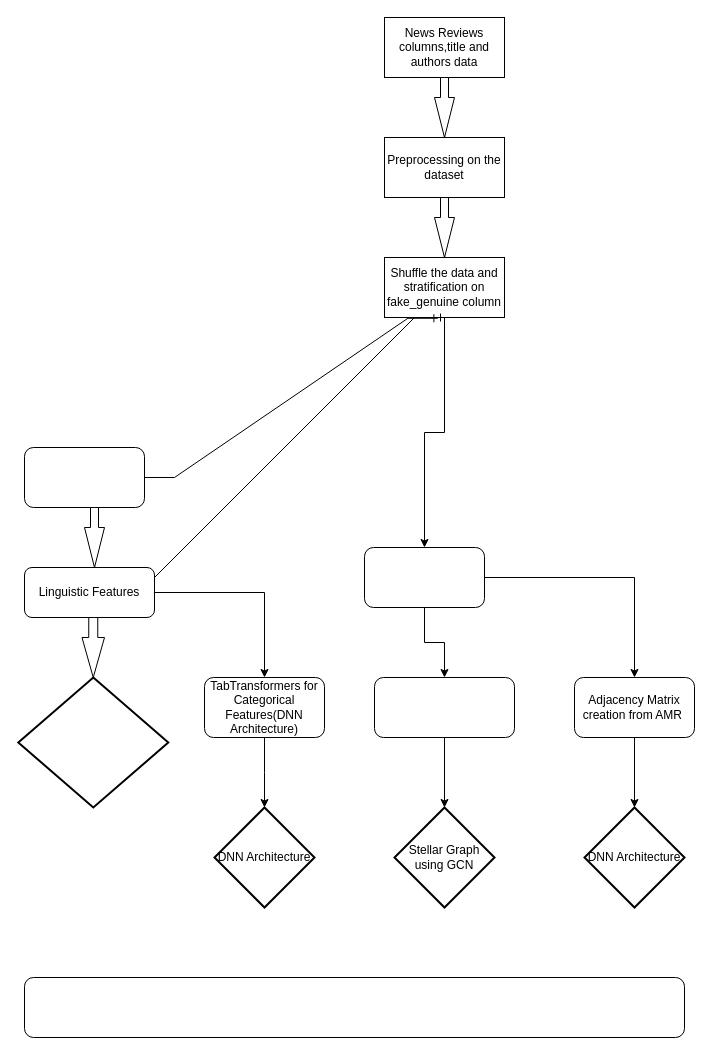
The diagram is 712 pixels wide and 1055 high, and some of its shapes have lost their labels. The shapes that lost their labels are listed below. From the top down, each one's centre as x and y in pixels, then its label:
[84,477]: BERTopic +MMF Best k topis using coherence score for determing topics
[424,577]: Abstract Meaning Representation of reviews.
[444,707]: Creation of node features and graph classification using Stellar graph
[93,742]: ML Algos(SVM,,NB,XGBoost and RF)
